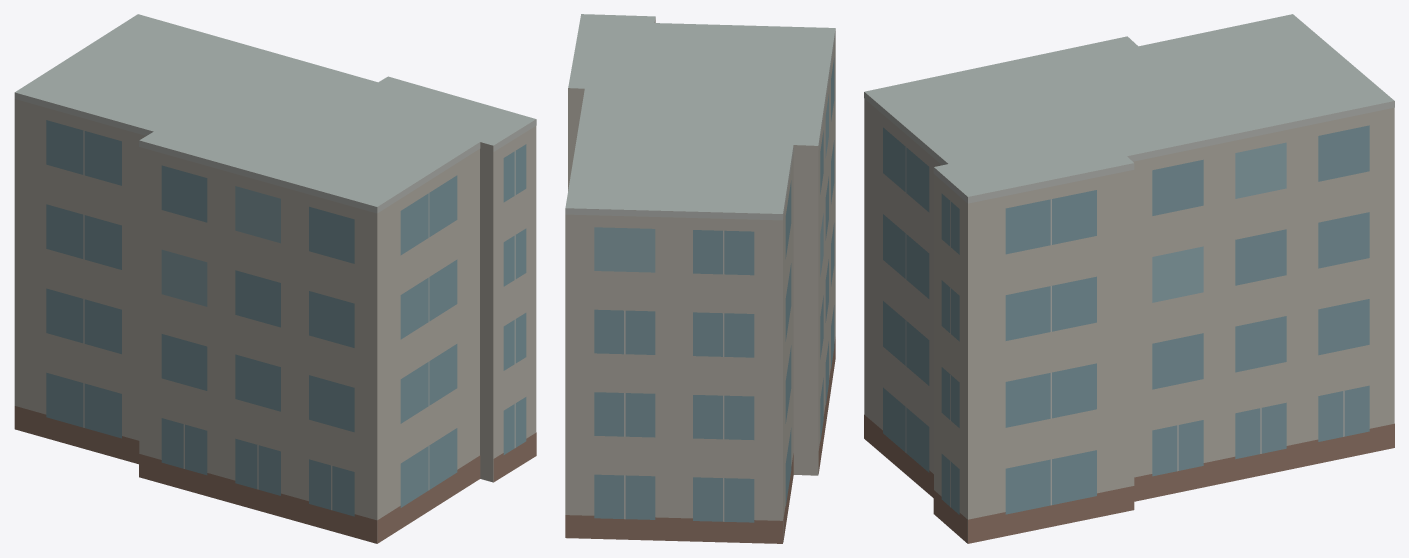
The model's file is survey-upis-32707077.glb.
3 renders of one model, left to right at view 1: azimuth 30°, elevation 25°; view 2: azimuth 150°, elevation 25°; view 3: azimuth 270°, elevation 25°, orthographic. The views are drawn at different scales.
Visible parts, largest first — view 1: survey-upis-32707077.tmp; view 2: survey-upis-32707077.tmp; view 3: survey-upis-32707077.tmp.
Boxes of the visible parts, x1,y1,x2,y2 form: survey-upis-32707077.tmp: (14,14,536,543); survey-upis-32707077.tmp: (565,14,835,543); survey-upis-32707077.tmp: (864,14,1394,543).
Size of the model in its own units: 14.32 by 12.65 by 17.55.
